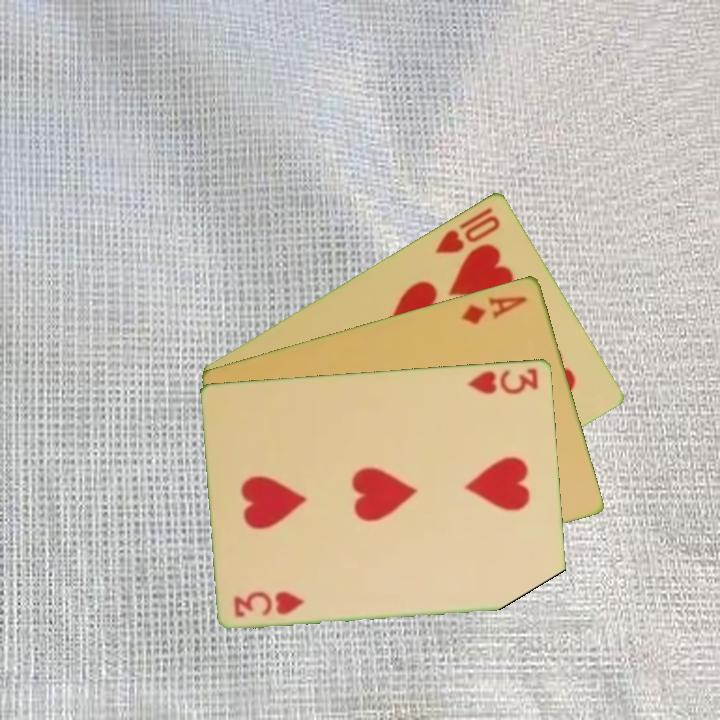10h: (432, 203, 504, 256)
3h: (465, 364, 541, 397), (230, 587, 307, 619)
Ad: (457, 292, 531, 327)
